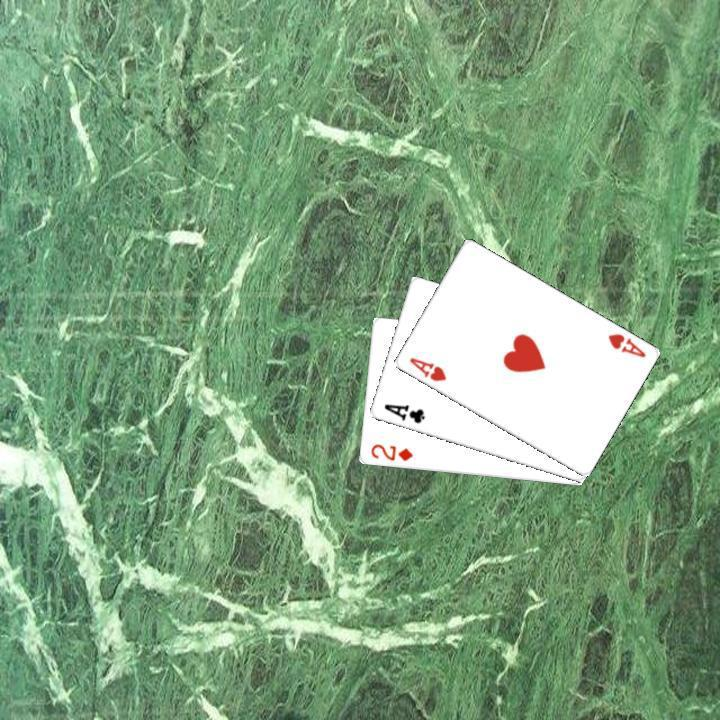2: (366, 440, 414, 463)
A: (603, 329, 647, 360), (405, 353, 448, 384), (379, 400, 426, 426)
